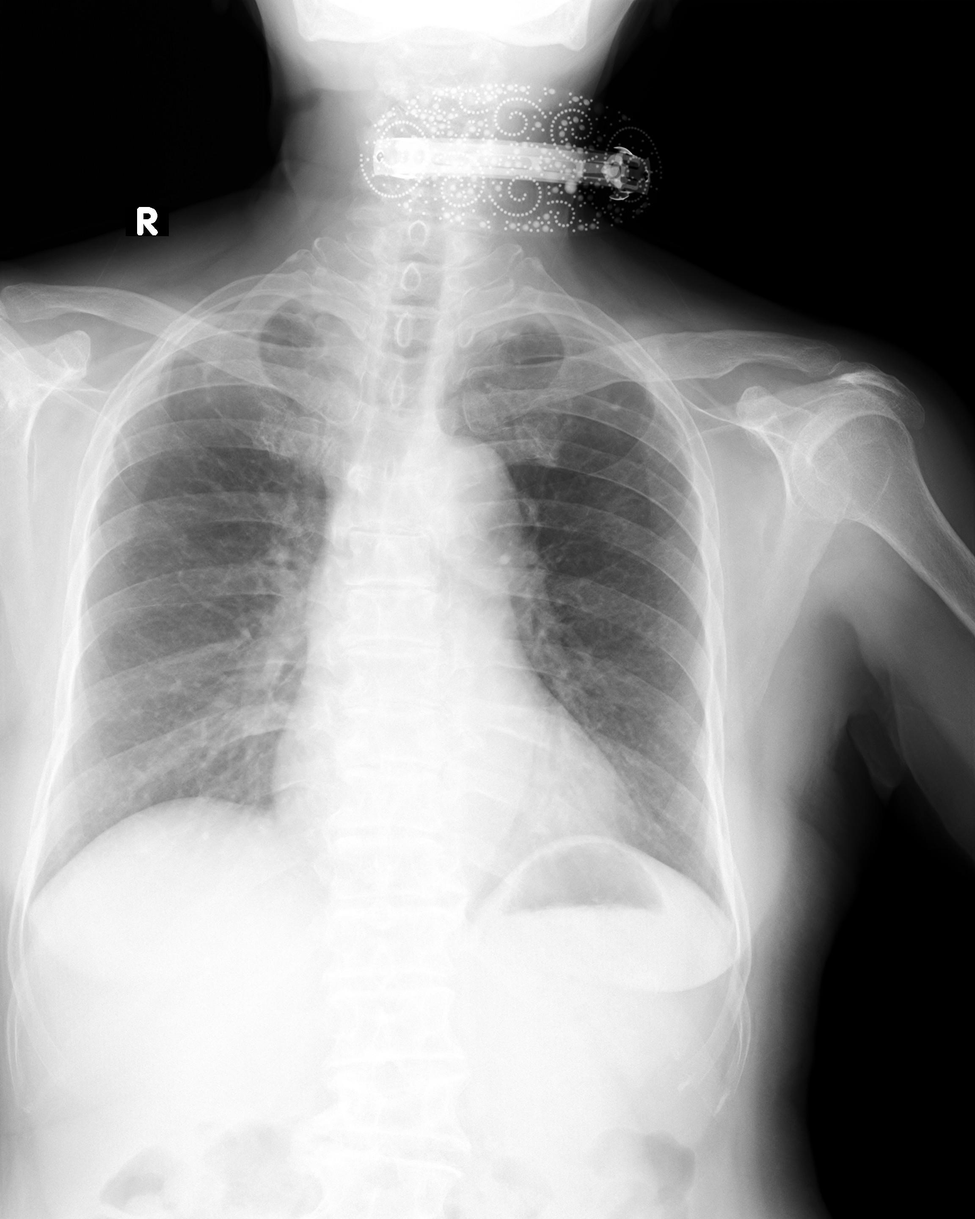Aortic enlargement: (307, 438, 521, 636)
Pleural thickening: (570, 314, 648, 383)
